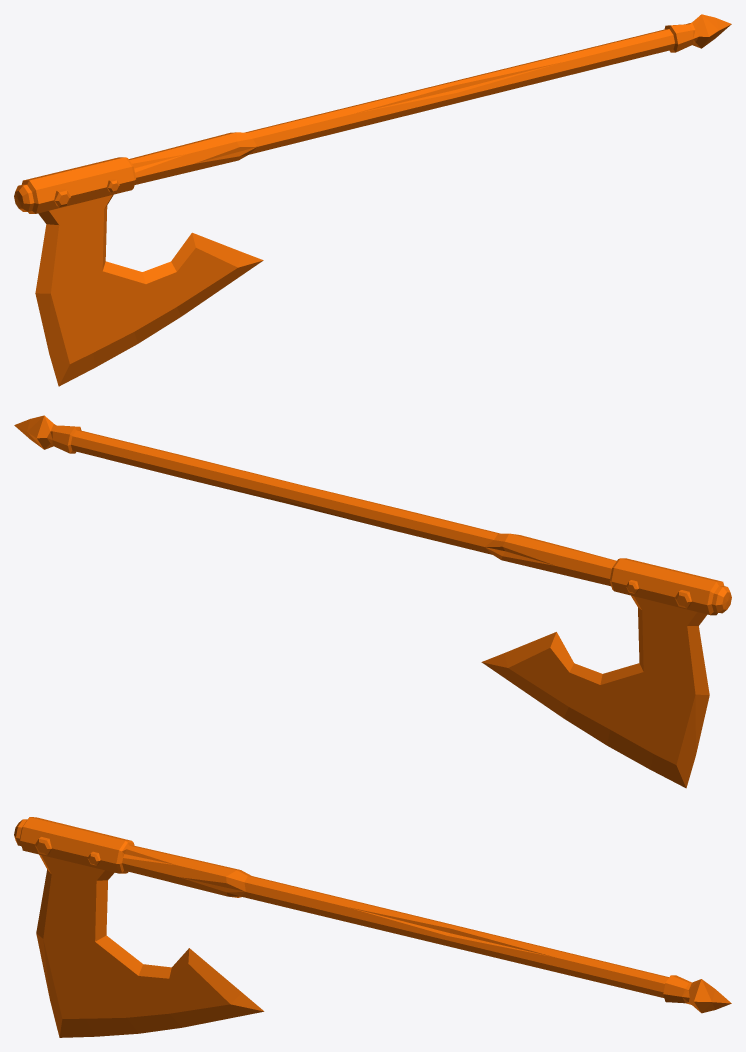
The model's file is CGM_ENV_WEP_axe7.fbx.
3 views of the same model, one above another, from view 1: azimuth 30°, elevation 25°; view 2: azimuth 150°, elevation 25°; view 3: azimuth 330°, elevation 25° (orthographic).
Parts seen in each view (by area): view 1: CGM_ENV_WEP_axe7; view 2: CGM_ENV_WEP_axe7; view 3: CGM_ENV_WEP_axe7.
Boxes of the visible parts, x1,y1,x2,y2 form: CGM_ENV_WEP_axe7: (14, 14, 731, 386); CGM_ENV_WEP_axe7: (14, 415, 731, 788); CGM_ENV_WEP_axe7: (14, 817, 731, 1037).
Size of the model in its own units: 184 by 53.27 by 10.04.
